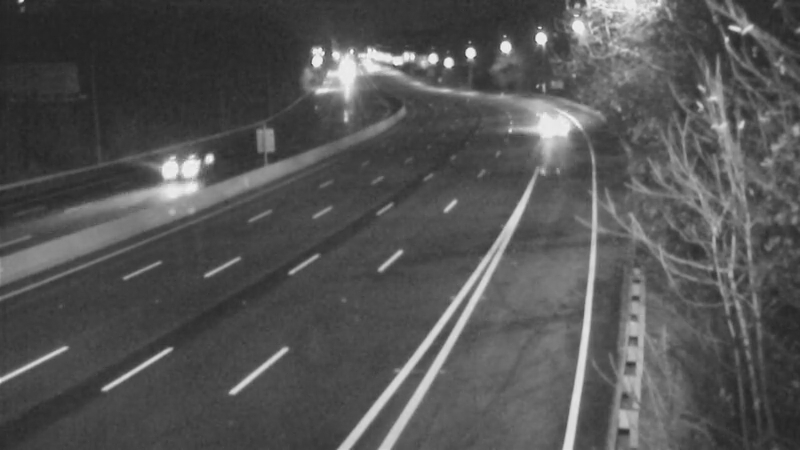vehicle: (148, 126, 228, 206), (521, 102, 571, 152)
